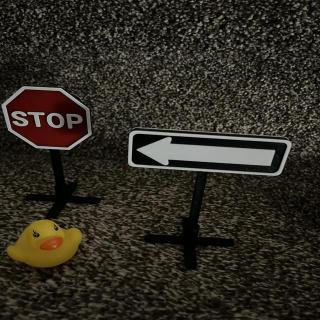duck_regular: (8, 221, 84, 269)
sign_oneway_left: (129, 129, 294, 178)
sign_stop: (3, 88, 93, 153)
